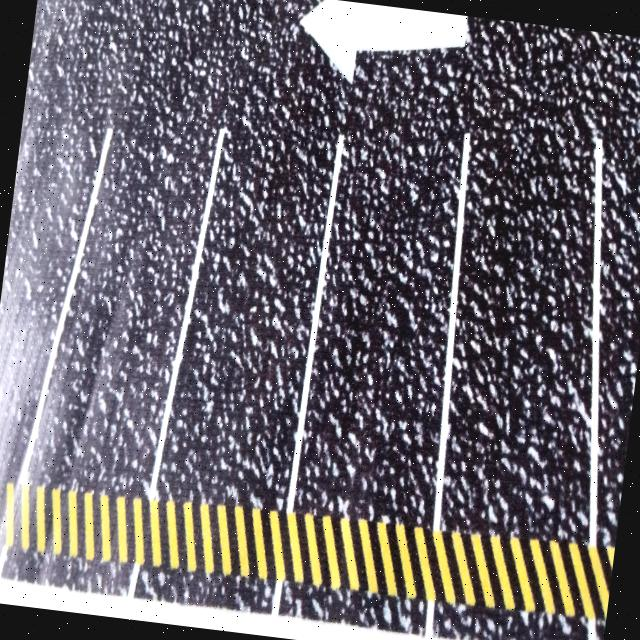slots: (298, 65, 463, 523), (158, 111, 336, 505), (442, 88, 594, 537), (30, 130, 216, 494)
